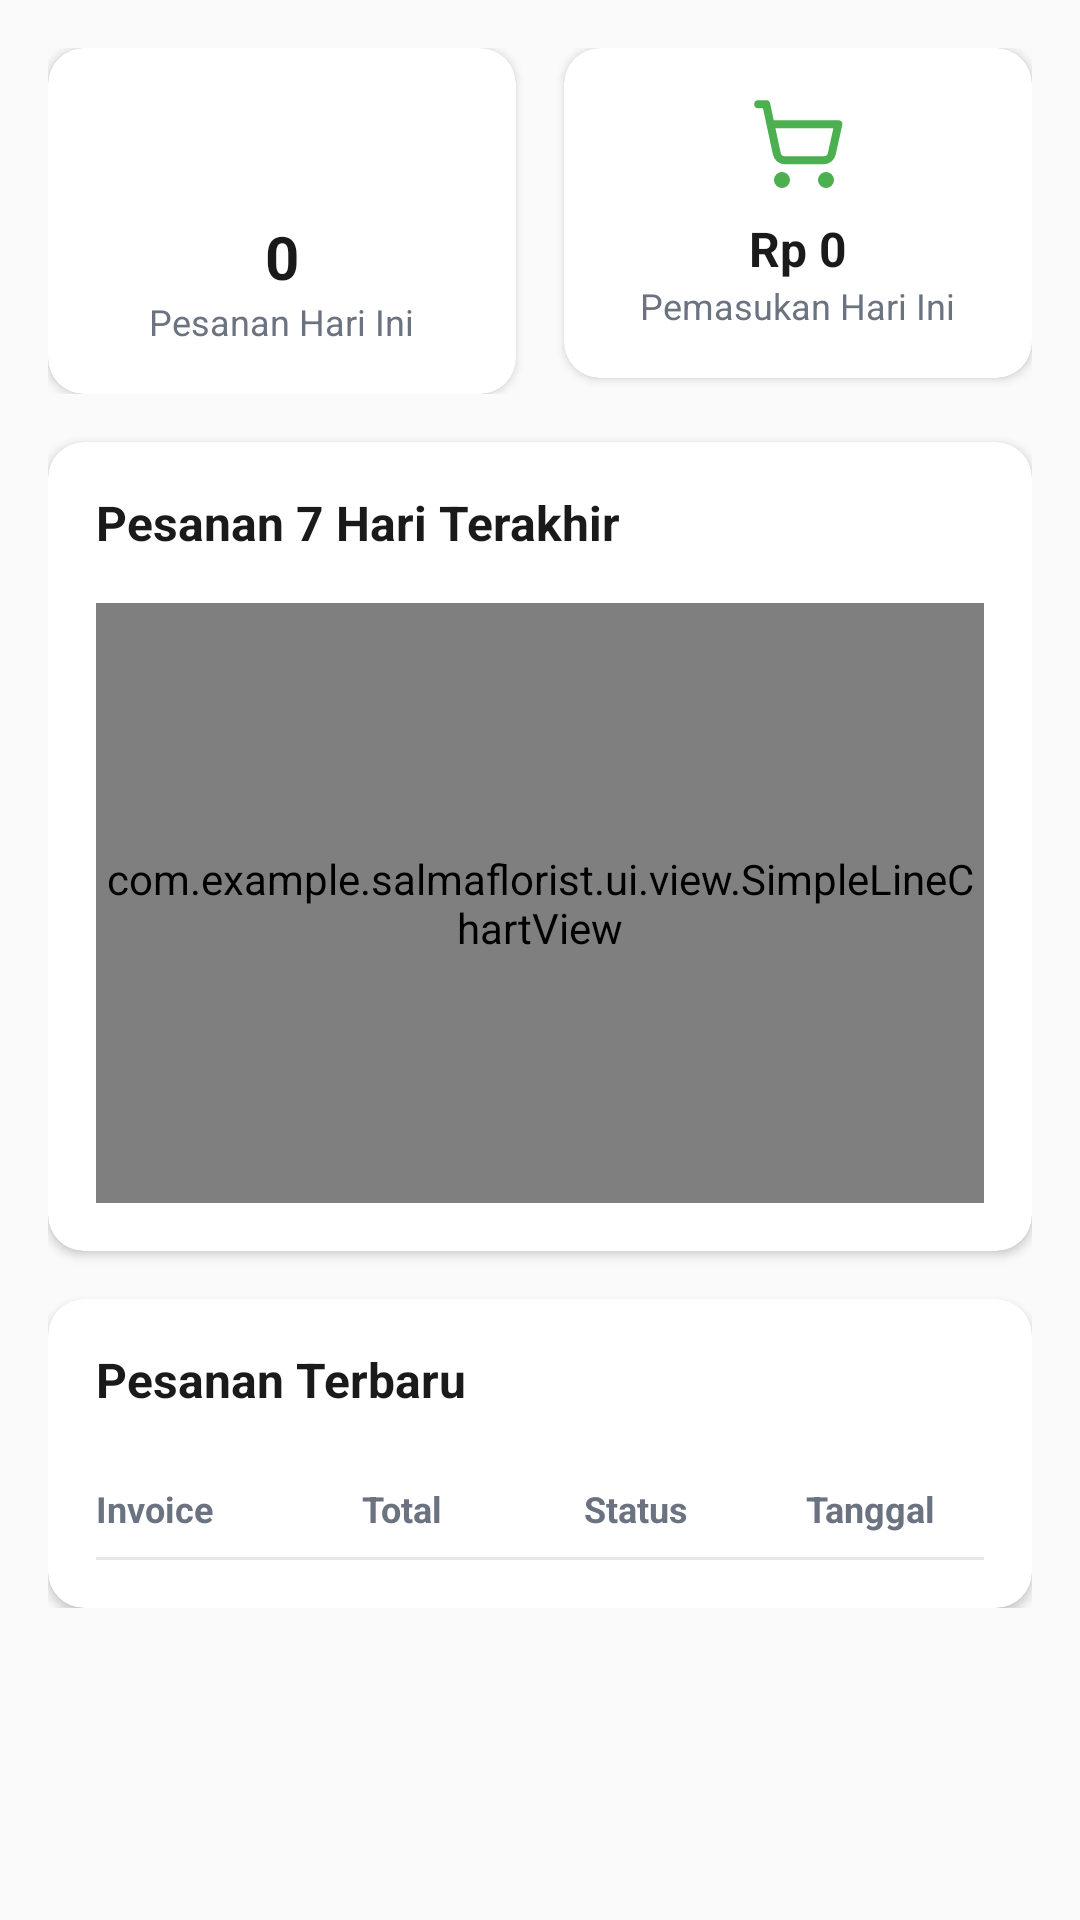

Where to tap for icons on this 1080x1920 app screen, as (x=x, y=y):
cart: (x=798, y=144)
